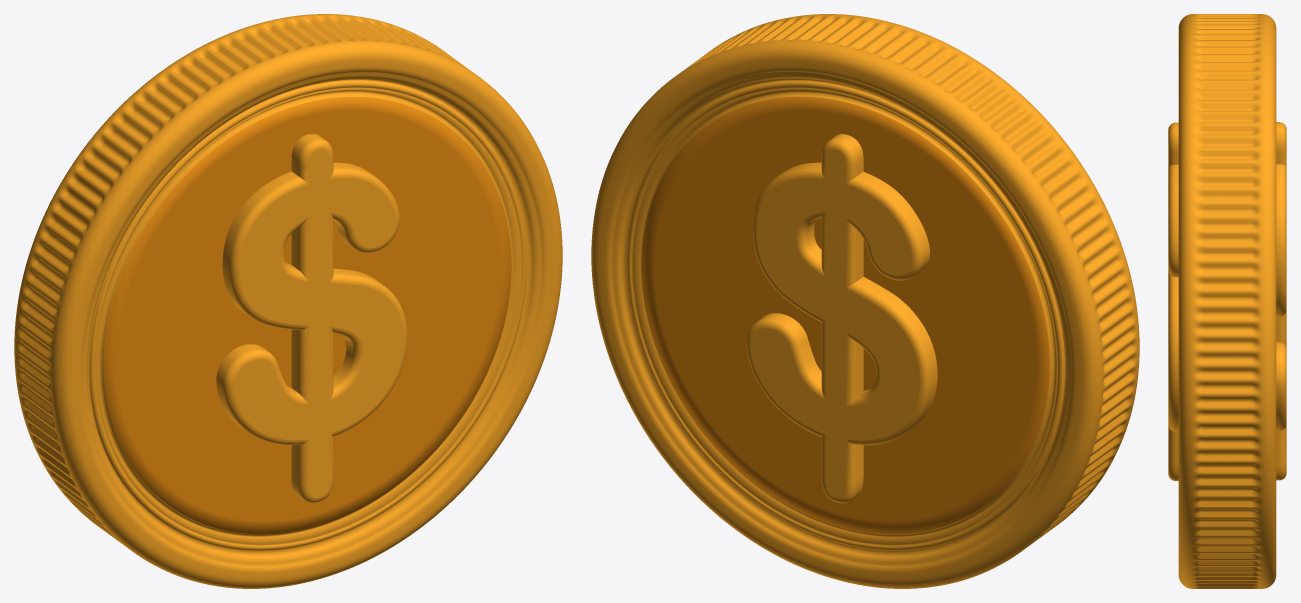
Rendered from coin.glb.
3 views of the same model, side by side, from view 1: azimuth 30°, elevation 25°; view 2: azimuth 150°, elevation 25°; view 3: azimuth 270°, elevation 25° (orthographic). The views are drawn at different scales.
Visible parts, largest first — view 1: SM_Coin, SM_Dollar; view 2: SM_Coin, SM_Dollar_Back; view 3: SM_Coin, SM_Dollar, SM_Dollar_Back.
Boxes of the visible parts, <box> form: SM_Coin: <box>14,14,562,588</box>; SM_Dollar: <box>216,134,407,502</box>; SM_Coin: <box>591,14,1139,588</box>; SM_Dollar_Back: <box>746,134,937,503</box>; SM_Coin: <box>1178,14,1276,588</box>; SM_Dollar: <box>1168,122,1178,480</box>; SM_Dollar_Back: <box>1276,122,1286,480</box>.
Bounding box in the file's own units: 2 × 2 × 0.4118.
